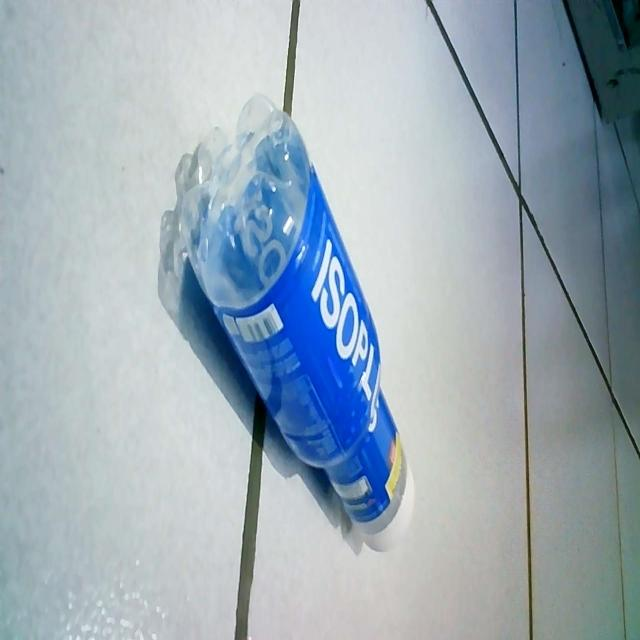botol: (152, 61, 434, 595)
